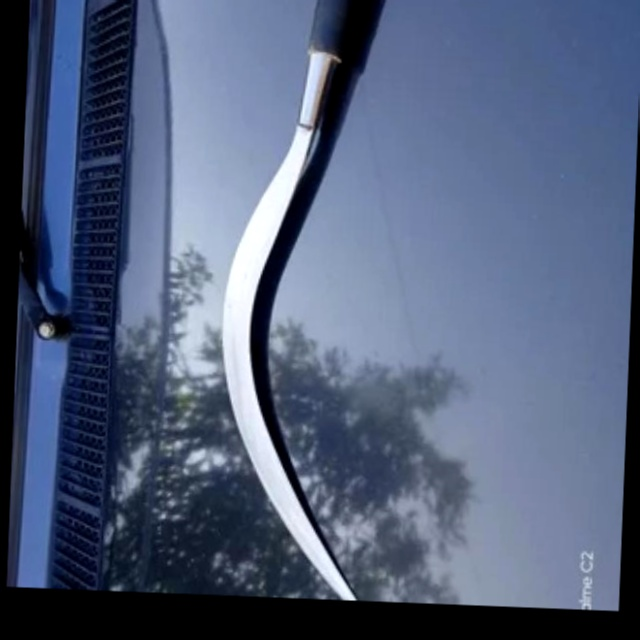Sharp-Object: (207, 0, 454, 603)
